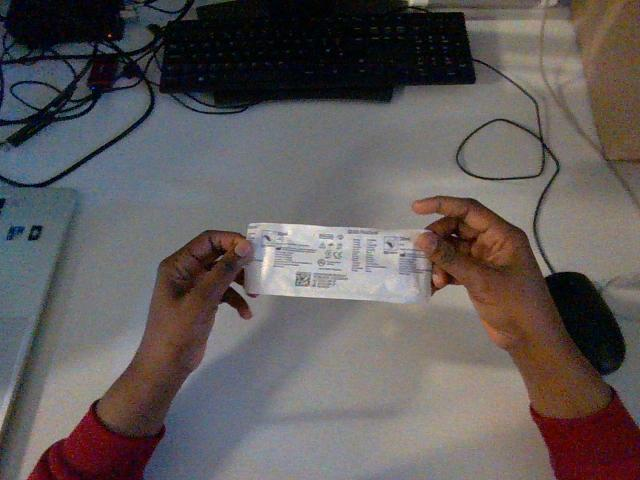syringe: (245, 223, 431, 302)
